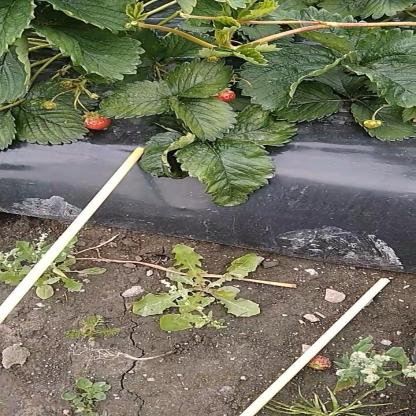ripe: (84, 112, 114, 131), (216, 90, 238, 102)
unripe: (362, 119, 384, 130), (42, 100, 57, 110)
